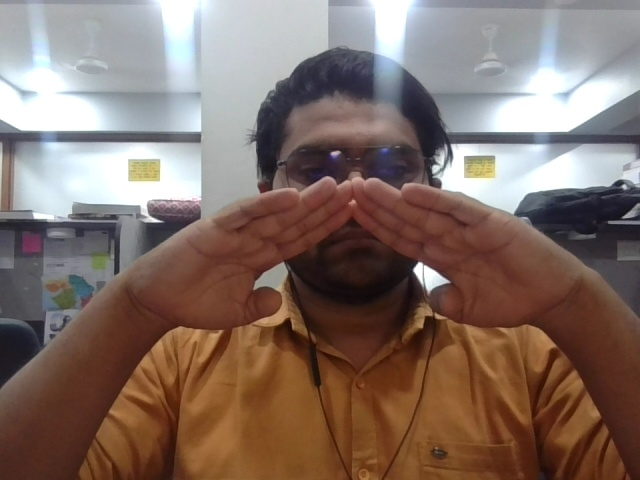ThankYou: (128, 179, 601, 330)
